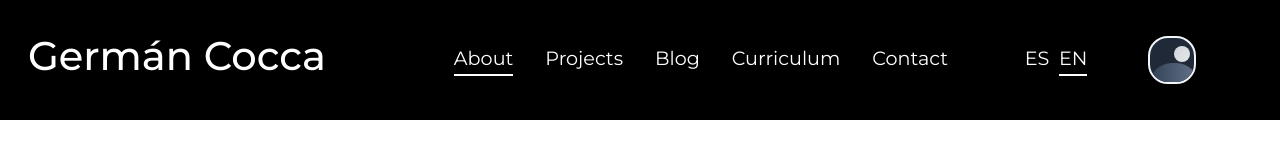
Scenario: Header › Changes language on click
Click the button with test id "es-language-btn" at coordinates (1037, 60), box [1025,44,1049,76]
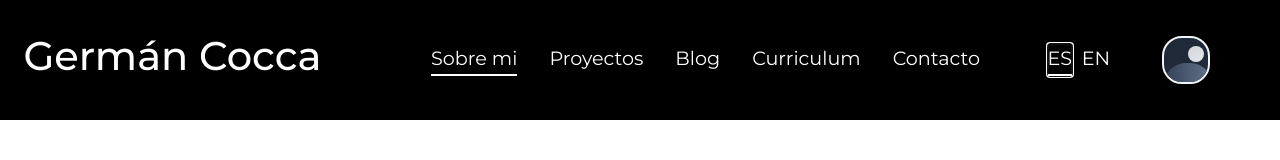
Expected: the link with test id "about-desktop-btn" reads "Sobre mi", [431,46,517,76]
Click the button with test id "en-language-btn" at coordinates (1096, 60), box [1082,44,1110,76]
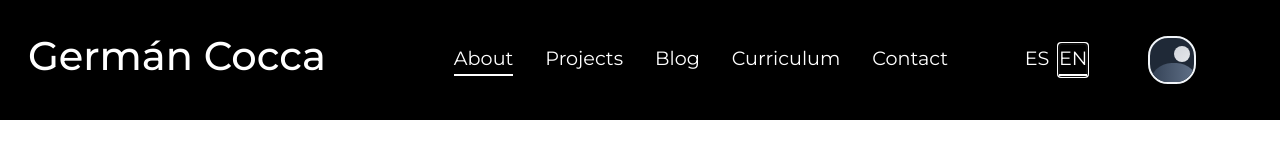
Expected: the link with test id "about-desktop-btn" reads "About", [454,46,513,76]
